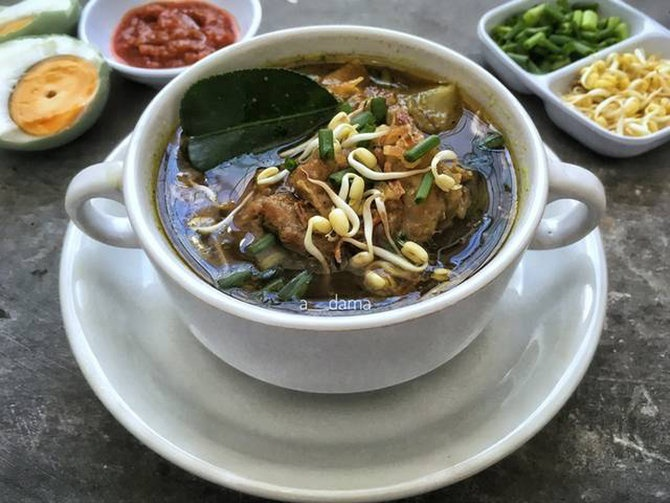rawon: (122, 39, 480, 293)
